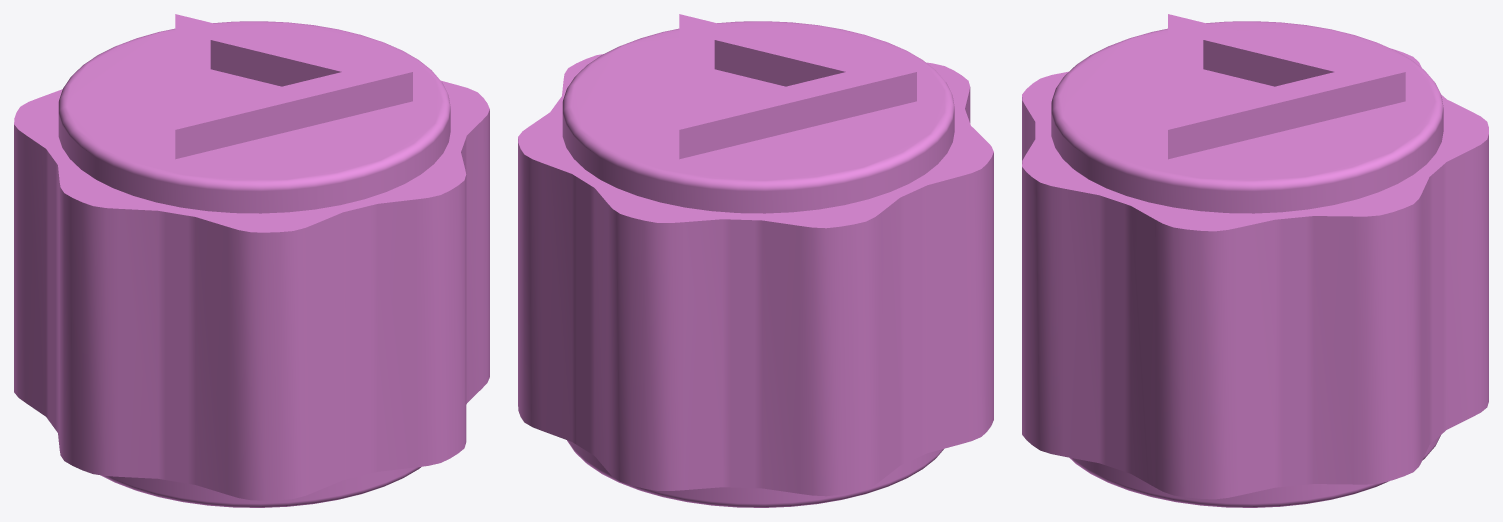
Rendered from tringl-st2-1.glb.
3 renders of one model, left to right at view 1: azimuth 30°, elevation 25°; view 2: azimuth 150°, elevation 25°; view 3: azimuth 270°, elevation 25°, orthographic.
Parts seen in each view (by area): view 1: Object_2; view 2: Object_2; view 3: Object_2.
Boxes of the visible parts, x1,y1,x2,y2 form: Object_2: (14,14,489,507); Object_2: (518,14,993,507); Object_2: (1022,14,1488,507).
Size of the model in its own units: 21.45 by 17.65 by 20.99.
